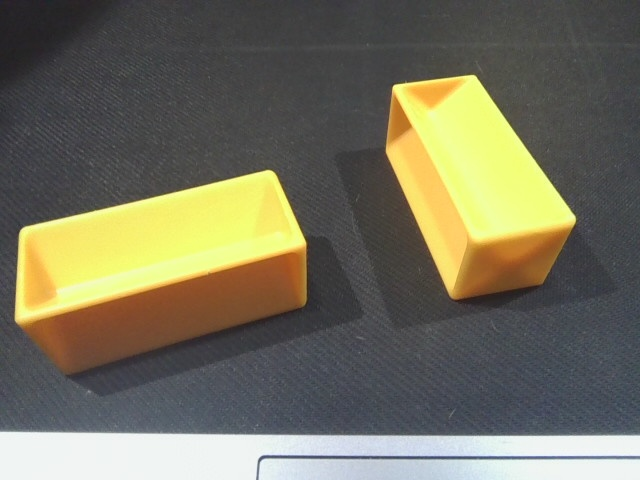YellowSample: (15, 163, 313, 383), (382, 72, 578, 308)
